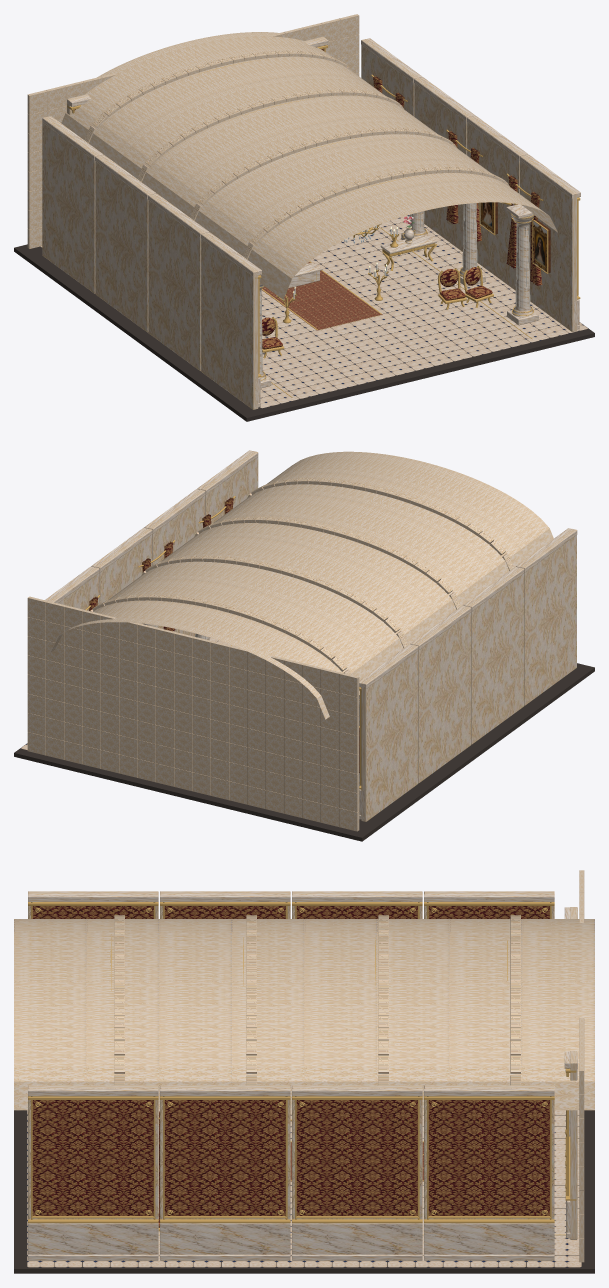
Rendered from room-3.glb.
The picture shows the model from 3 angles, top to bottom: view 1: azimuth 30°, elevation 25°; view 2: azimuth 150°, elevation 25°; view 3: azimuth 270°, elevation 25°; orthographic projection. The views are drawn at different scales.
Parts seen in each view (by area): view 1: Detailed Ivory brocade stone, Detailed Vaulted stone, Detailed Fine floor tile, Detailed Dark recess, Detailed Ivory marble, Detailed Hand chased antique gilt, Detailed Red brocade, Detailed Persian carpet, Detailed Warm porcelain ivory, Detailed Supplied salon framed portrait 1.003; view 2: Detailed Ivory brocade stone, Detailed Vaulted stone, Detailed Dark recess, Detailed Ivory marble, Detailed Red brocade; view 3: Detailed Vaulted stone, Detailed Red brocade, Detailed Ivory marble, Detailed Ivory brocade stone, Detailed Hand chased antique gilt, Detailed Dark recess, Detailed Fine floor tile.
Part boxes in pixels (x1,y1,x2,y2): Detailed Ivory brocade stone: (27,14,576,409); Detailed Vaulted stone: (61,32,557,299); Detailed Fine floor tile: (40,214,587,408); Detailed Dark recess: (14,215,594,421); Detailed Ivory marble: (42,38,580,407); Detailed Hand chased antique gilt: (67,45,580,397); Detailed Red brocade: (74,49,542,349); Detailed Persian carpet: (262,262,382,330); Detailed Warm porcelain ivory: (260,203,530,370); Detailed Supplied salon framed portrait 1.003: (533,221,546,272); Detailed Ivory brocade stone: (27,451,576,831); Detailed Vaulted stone: (51,451,553,719); Detailed Dark recess: (14,641,594,841); Detailed Ivory marble: (45,450,577,820); Detailed Red brocade: (89,497,233,631); Detailed Vaulted stone: (14,919,594,1110); Detailed Red brocade: (32,906,549,1227); Detailed Ivory marble: (28,894,577,1260); Detailed Ivory brocade stone: (28,870,584,1262); Detailed Hand chased antique gilt: (28,902,576,1235); Detailed Dark recess: (14,1110,594,1273); Detailed Fine floor tile: (27,1110,581,1267).
Size of the model in its own units: 19 by 8.92 by 22.
22 materials, 15 textured.
